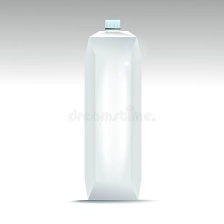carton: (78, 15, 148, 207)
